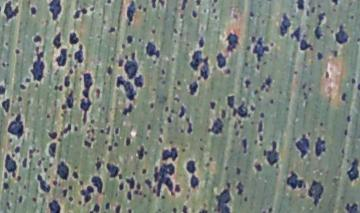tarspot: (154, 162, 173, 196), (189, 48, 209, 79), (114, 76, 137, 101), (29, 46, 45, 81), (308, 179, 323, 208), (264, 141, 280, 166), (252, 38, 269, 61), (7, 116, 24, 139), (216, 188, 231, 213), (2, 1, 19, 22), (287, 171, 306, 189), (78, 97, 91, 123), (81, 70, 93, 98), (347, 157, 360, 181), (297, 134, 310, 158), (124, 59, 139, 79), (334, 23, 348, 44), (36, 173, 50, 193), (207, 118, 223, 135), (145, 42, 161, 58), (279, 12, 290, 35), (54, 48, 68, 66), (4, 153, 18, 171), (49, 1, 62, 20), (226, 33, 239, 52), (73, 44, 85, 64), (106, 160, 119, 178), (56, 162, 69, 180), (315, 136, 326, 157), (127, 1, 136, 26), (162, 148, 178, 161), (80, 186, 93, 202), (238, 102, 251, 117), (67, 31, 80, 46), (92, 175, 102, 194), (291, 25, 302, 42), (121, 103, 133, 117), (345, 202, 360, 213), (125, 175, 136, 190), (186, 159, 196, 175), (299, 39, 312, 51), (48, 200, 60, 213), (134, 75, 145, 89), (314, 23, 323, 40), (48, 142, 57, 159), (240, 136, 248, 155), (66, 90, 74, 109), (216, 53, 226, 68), (188, 80, 198, 95), (235, 180, 244, 196), (184, 116, 192, 134), (1, 97, 10, 113), (189, 174, 199, 188), (137, 142, 145, 158), (52, 33, 60, 49), (227, 94, 236, 108), (31, 34, 43, 44), (265, 75, 273, 89), (123, 136, 133, 147), (254, 161, 263, 173), (62, 123, 71, 135), (317, 12, 325, 25), (296, 1, 305, 12), (64, 74, 71, 88), (93, 201, 101, 213), (72, 10, 81, 20), (173, 183, 182, 193), (47, 131, 57, 140), (144, 178, 152, 189), (4, 199, 12, 210), (220, 108, 227, 120), (179, 105, 186, 117), (95, 160, 102, 172), (29, 6, 37, 16), (244, 79, 252, 89), (258, 120, 264, 133), (95, 87, 101, 100), (332, 48, 339, 59), (316, 50, 323, 61), (340, 92, 347, 103), (342, 127, 349, 138), (106, 65, 113, 76), (21, 157, 28, 168), (191, 9, 199, 18), (199, 36, 205, 48), (104, 201, 112, 210), (13, 47, 22, 55), (71, 171, 79, 180), (2, 181, 10, 190), (104, 125, 112, 134), (130, 51, 137, 61), (126, 190, 132, 201), (209, 101, 217, 109), (133, 189, 141, 197), (18, 82, 26, 90), (13, 145, 21, 153), (83, 140, 91, 148), (107, 26, 116, 33), (339, 147, 346, 156), (249, 103, 256, 112), (234, 167, 241, 176), (114, 204, 121, 213), (126, 36, 133, 45), (68, 66, 75, 75), (60, 188, 67, 197), (225, 65, 231, 75), (1, 84, 6, 96), (81, 7, 88, 15), (178, 12, 185, 20), (212, 13, 219, 21), (232, 13, 239, 21), (172, 28, 179, 36), (117, 60, 125, 67), (112, 140, 119, 148), (17, 195, 24, 203), (304, 8, 310, 17), (302, 91, 308, 100), (226, 180, 232, 189), (172, 97, 181, 103), (346, 113, 351, 123), (164, 103, 169, 113), (29, 149, 34, 159), (150, 1, 157, 8), (159, 1, 166, 8), (310, 6, 317, 13), (245, 45, 252, 52), (197, 145, 204, 152), (25, 77, 32, 84), (15, 175, 22, 182), (87, 5, 95, 11), (234, 130, 240, 138), (146, 123, 152, 131), (118, 183, 124, 191), (67, 51, 73, 59), (52, 83, 58, 91), (34, 81, 40, 89), (60, 102, 66, 110), (78, 179, 84, 187), (114, 127, 120, 135), (182, 1, 187, 10), (198, 208, 207, 213), (331, 1, 338, 7), (349, 14, 355, 21), (350, 77, 356, 84), (259, 111, 265, 118), (269, 98, 275, 105), (260, 18, 266, 25), (253, 89, 259, 96), (259, 83, 265, 90), (251, 36, 257, 43), (243, 61, 249, 68), (267, 207, 274, 213), (205, 162, 211, 169), (157, 136, 163, 143), (167, 117, 173, 124), (3, 40, 9, 47), (1, 61, 7, 68), (58, 84, 64, 91), (67, 197, 74, 203), (52, 179, 58, 186), (90, 129, 96, 136), (85, 128, 92, 134), (103, 139, 109, 146), (59, 111, 66, 117), (130, 170, 137, 176), (167, 139, 174, 145), (250, 10, 255, 18), (325, 71, 330, 79), (319, 120, 324, 128), (255, 63, 260, 71), (233, 121, 238, 129), (149, 102, 154, 110), (136, 182, 141, 190), (124, 53, 129, 61), (107, 144, 112, 152), (3, 172, 8, 180), (37, 159, 42, 167), (328, 28, 334, 34), (269, 42, 275, 48), (257, 97, 263, 103), (233, 108, 237, 117), (179, 128, 185, 134), (141, 168, 147, 174), (170, 56, 176, 62), (151, 28, 157, 34), (17, 96, 23, 102), (8, 137, 14, 143), (31, 197, 37, 203), (73, 165, 79, 171), (142, 6, 147, 13), (196, 1, 201, 8), (259, 135, 264, 142), (292, 70, 299, 75), (243, 196, 248, 203), (237, 118, 242, 125), (209, 155, 214, 162), (172, 206, 177, 213), (161, 68, 166, 75), (152, 58, 157, 65), (119, 174, 124, 181), (137, 36, 142, 43), (121, 42, 126, 49), (73, 125, 78, 132), (11, 171, 16, 178), (22, 183, 27, 190), (183, 205, 187, 213), (92, 118, 96, 126), (137, 4, 142, 10), (211, 8, 217, 13), (202, 8, 208, 13), (301, 84, 307, 89), (254, 139, 259, 145), (198, 137, 203, 143), (170, 108, 175, 114), (176, 81, 182, 86), (127, 208, 133, 213), (68, 185, 73, 191), (110, 56, 115, 62), (26, 99, 31, 105), (101, 106, 106, 112), (302, 32, 307, 38), (356, 83, 360, 90), (160, 195, 167, 199), (182, 147, 186, 154), (160, 127, 164, 134), (43, 166, 47, 173), (308, 87, 313, 92), (239, 125, 244, 130), (224, 165, 229, 170), (142, 193, 147, 198), (161, 80, 166, 85), (106, 1, 112, 5), (100, 128, 104, 134), (48, 163, 54, 167), (356, 37, 360, 42), (212, 1, 218, 4), (47, 114, 50, 120), (36, 148, 39, 154)
